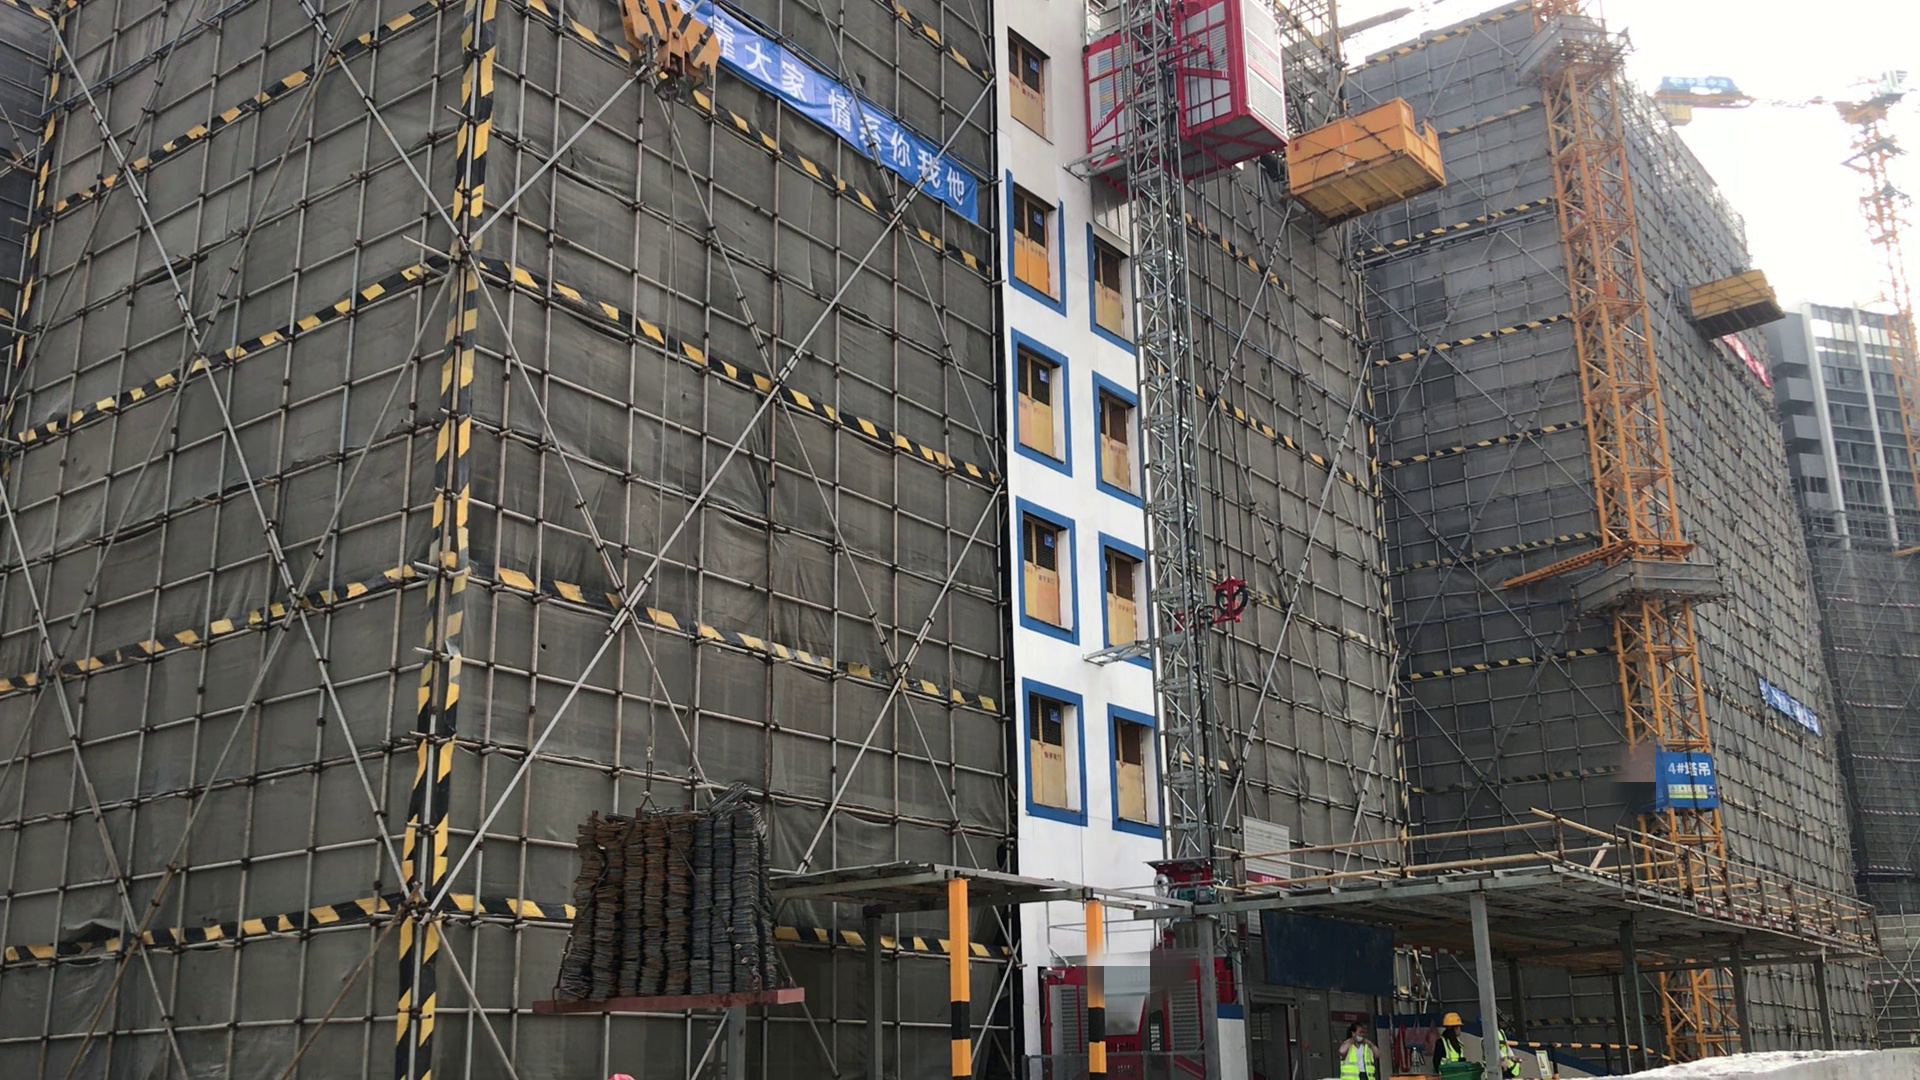helmet: (1440, 1011, 1470, 1033)
hook: (614, 7, 728, 100)
person: (1335, 1022, 1381, 1080), (1433, 1009, 1472, 1079), (1480, 1020, 1518, 1080)
slogan: (701, 10, 999, 226)
